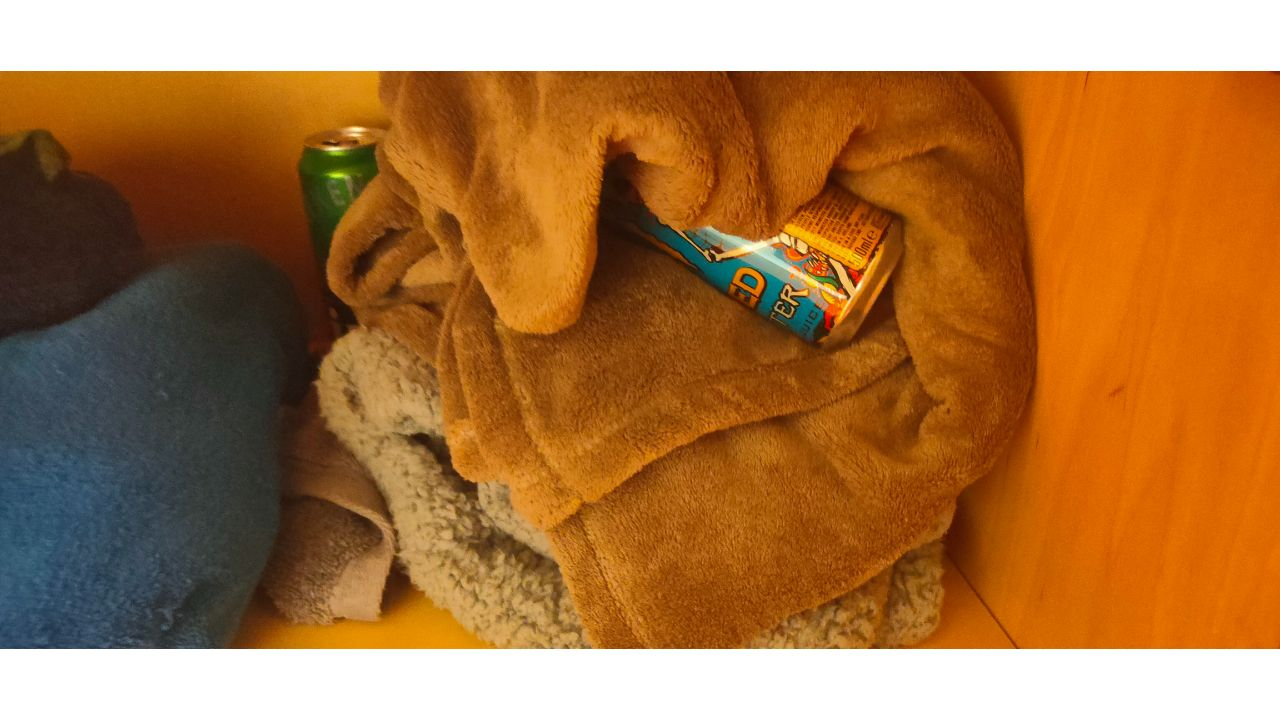Can: (582, 123, 907, 344), (297, 123, 398, 342)
